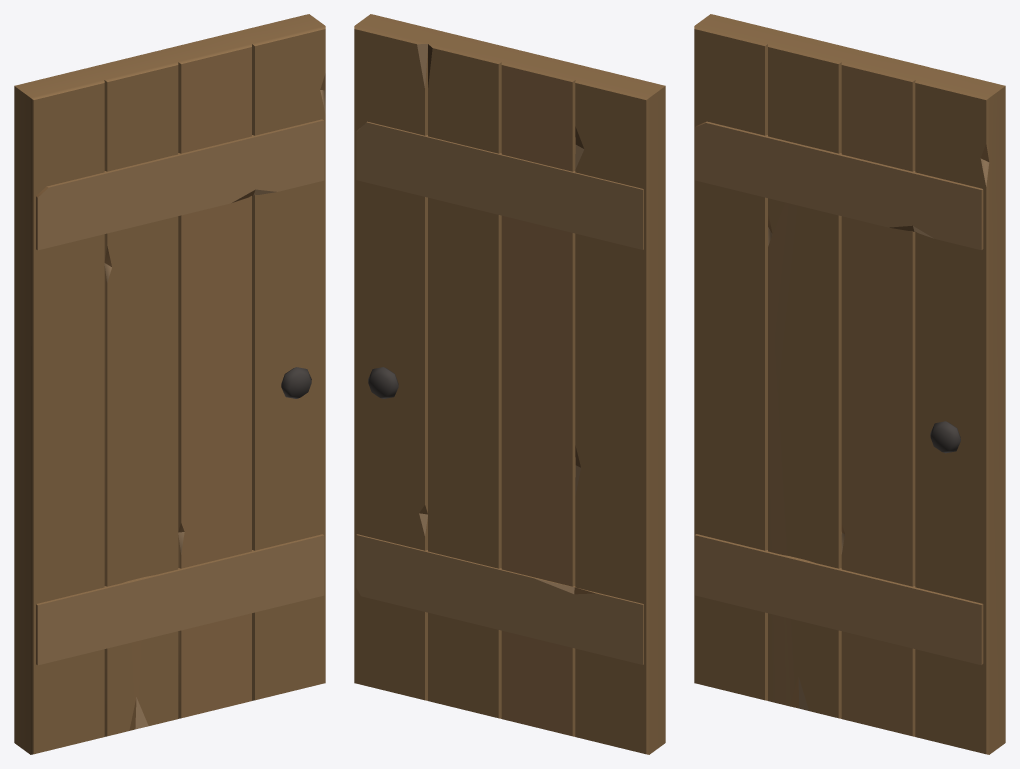
Rendered from SM_Bld_Farm_Door_01.obj.
The picture shows the model from 3 angles, left to right: view 1: azimuth 30°, elevation 25°; view 2: azimuth 150°, elevation 25°; view 3: azimuth 330°, elevation 25°; orthographic projection.
Visible parts, largest first — view 1: SM_Bld_Farm_Door_01_Mat_SwatchOverlay_Farm_01_WoodRotated_Inst, SM_Bld_Farm_Door_01_Mat_SwatchOverlay_Farm_01_Wood_Inst, SM_Bld_Farm_Door_01_Mat_SwatchOverlay_Farm_01_Inst; view 2: SM_Bld_Farm_Door_01_Mat_SwatchOverlay_Farm_01_WoodRotated_Inst, SM_Bld_Farm_Door_01_Mat_SwatchOverlay_Farm_01_Wood_Inst, SM_Bld_Farm_Door_01_Mat_SwatchOverlay_Farm_01_Inst; view 3: SM_Bld_Farm_Door_01_Mat_SwatchOverlay_Farm_01_WoodRotated_Inst, SM_Bld_Farm_Door_01_Mat_SwatchOverlay_Farm_01_Wood_Inst, SM_Bld_Farm_Door_01_Mat_SwatchOverlay_Farm_01_Inst.
Part boxes in pixels (left/top/right/bottom): SM_Bld_Farm_Door_01_Mat_SwatchOverlay_Farm_01_WoodRotated_Inst: left=14, top=14, right=325, bottom=754; SM_Bld_Farm_Door_01_Mat_SwatchOverlay_Farm_01_Wood_Inst: left=36, top=119, right=324, bottom=665; SM_Bld_Farm_Door_01_Mat_SwatchOverlay_Farm_01_Inst: left=281, top=367, right=311, bottom=398; SM_Bld_Farm_Door_01_Mat_SwatchOverlay_Farm_01_WoodRotated_Inst: left=354, top=14, right=665, bottom=754; SM_Bld_Farm_Door_01_Mat_SwatchOverlay_Farm_01_Wood_Inst: left=356, top=121, right=643, bottom=664; SM_Bld_Farm_Door_01_Mat_SwatchOverlay_Farm_01_Inst: left=368, top=367, right=398, bottom=398; SM_Bld_Farm_Door_01_Mat_SwatchOverlay_Farm_01_WoodRotated_Inst: left=694, top=14, right=1005, bottom=754; SM_Bld_Farm_Door_01_Mat_SwatchOverlay_Farm_01_Wood_Inst: left=695, top=121, right=983, bottom=665; SM_Bld_Farm_Door_01_Mat_SwatchOverlay_Farm_01_Inst: left=930, top=421, right=960, bottom=453.
Size of the model in its own units: 1.04 by 2.22 by 0.2445.
3 materials, 3 textured.
